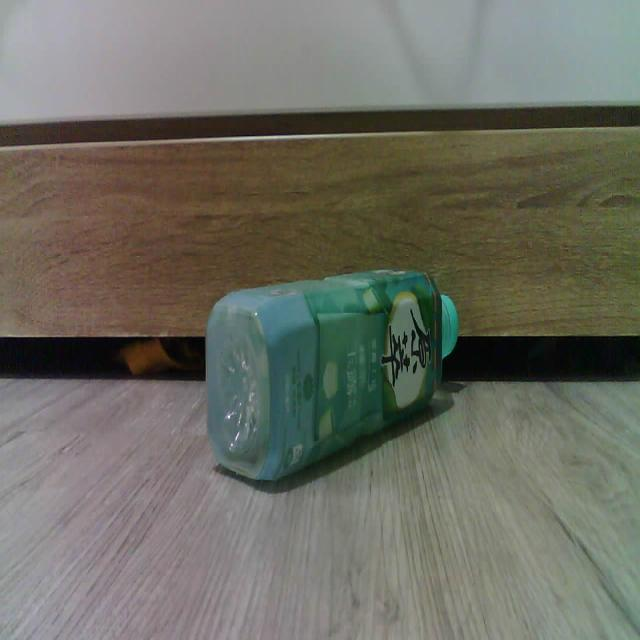bottle: (206, 269, 458, 480)
